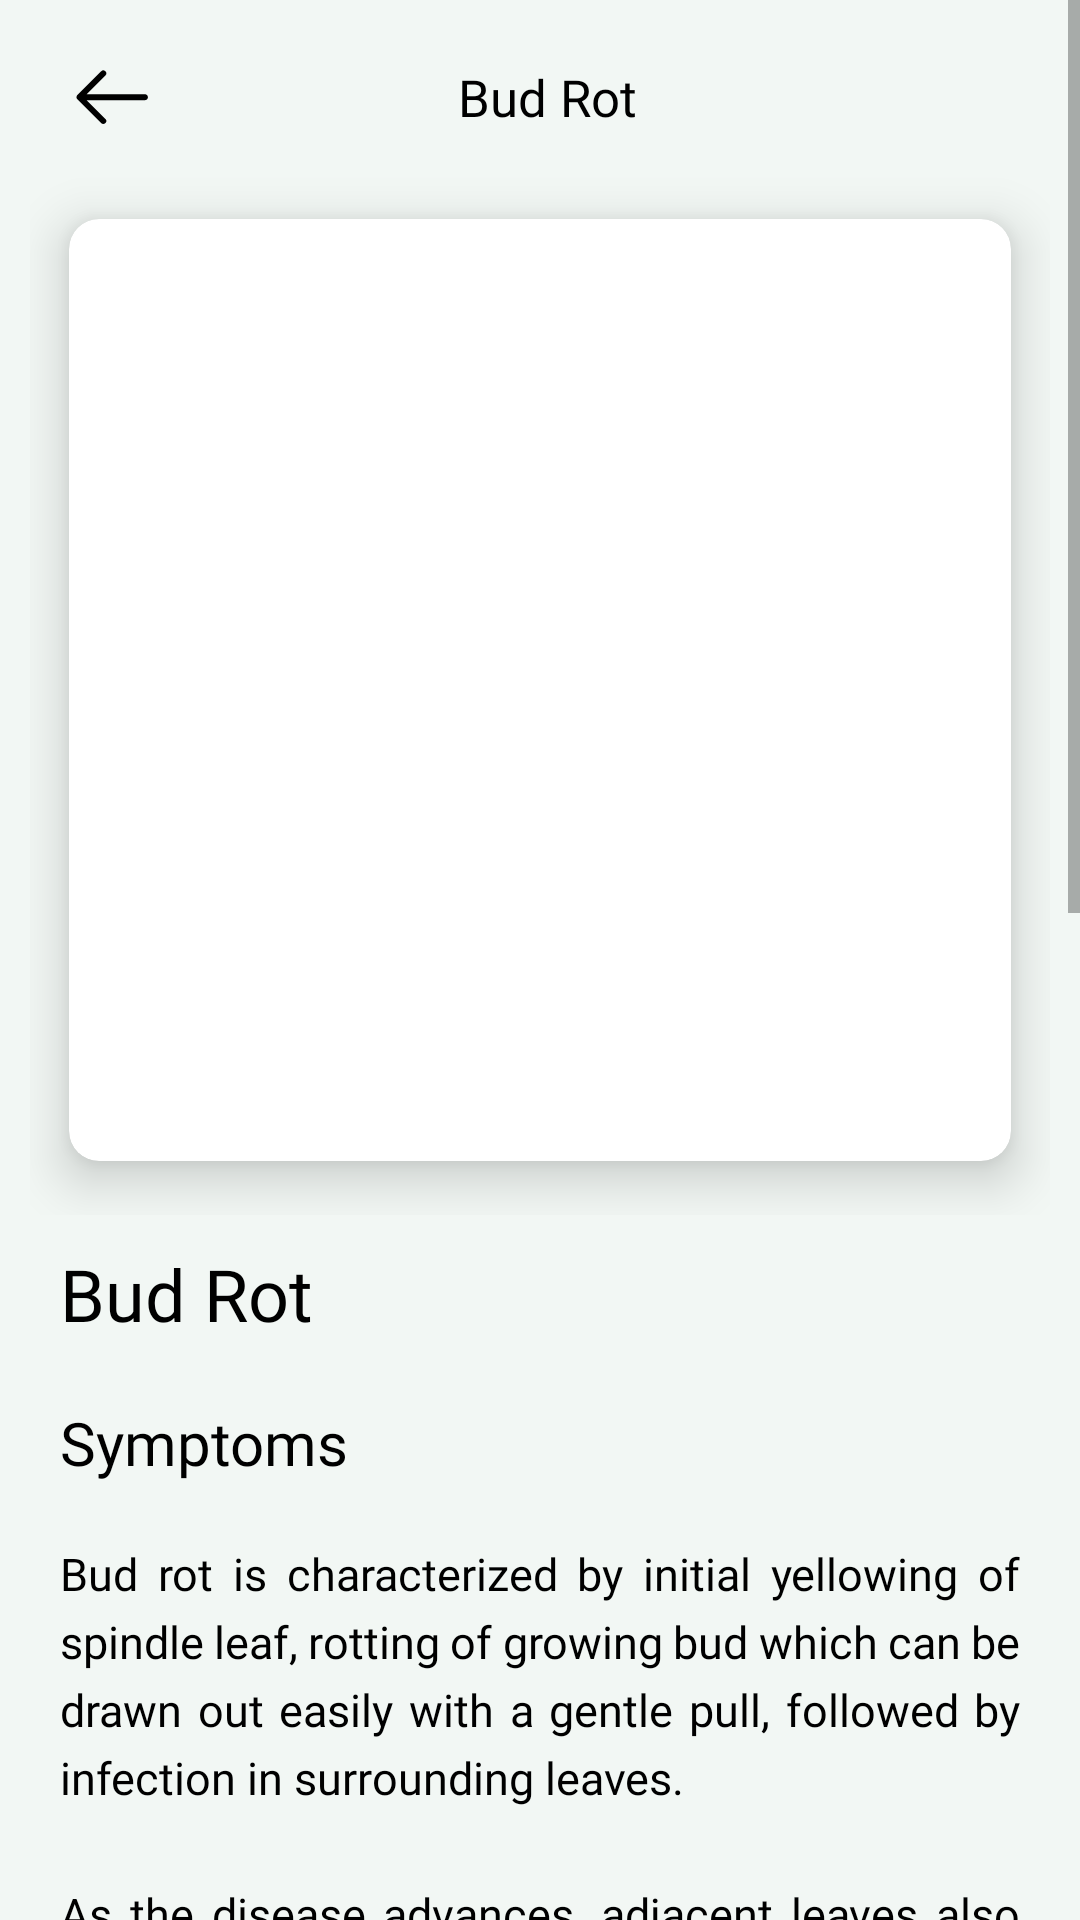

Where icons sit on this 1080*1920 app screen, as (x1, y1, x2, y2):
back: (76, 70, 148, 124)
